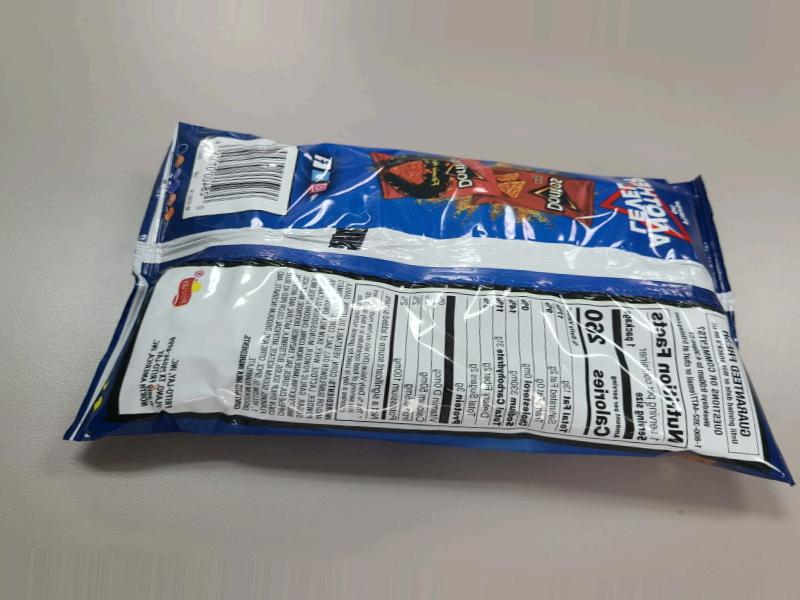doritos: (52, 166, 800, 451)
